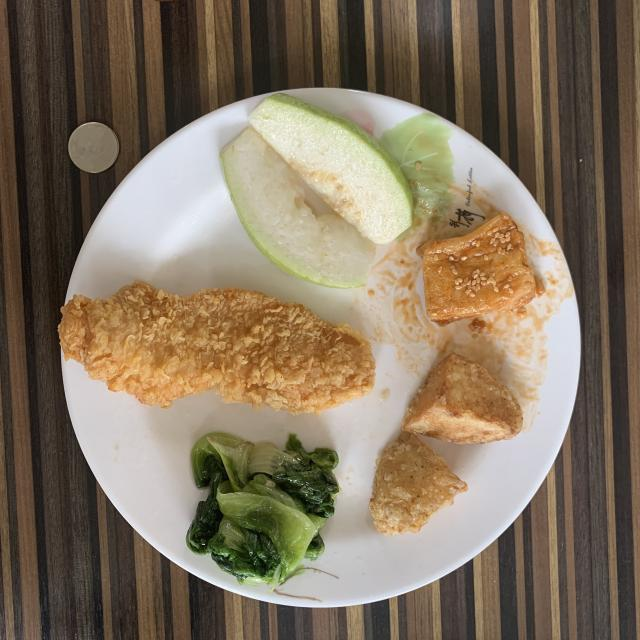coin: (68, 122, 119, 174)
creamy tofu: (420, 212, 541, 325)
fried chicken cutlet: (59, 280, 375, 415)
fried potato: (369, 352, 522, 535)
guava -sliced-: (220, 94, 414, 288)
mustard greens: (186, 432, 339, 589)
